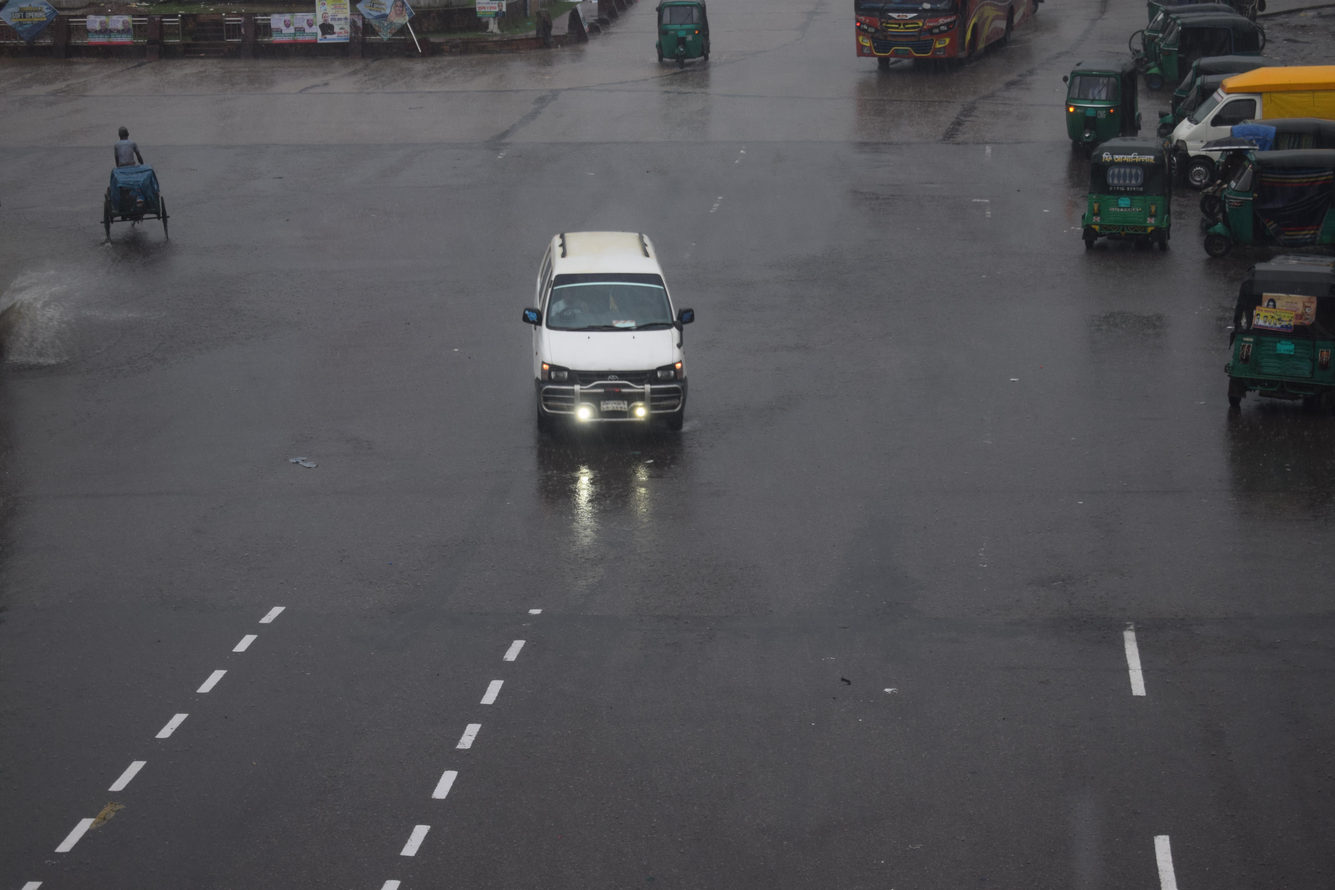Bus: (821, 0, 1058, 107)
Car: (455, 143, 733, 506), (57, 103, 224, 267), (1163, 57, 1335, 152)
